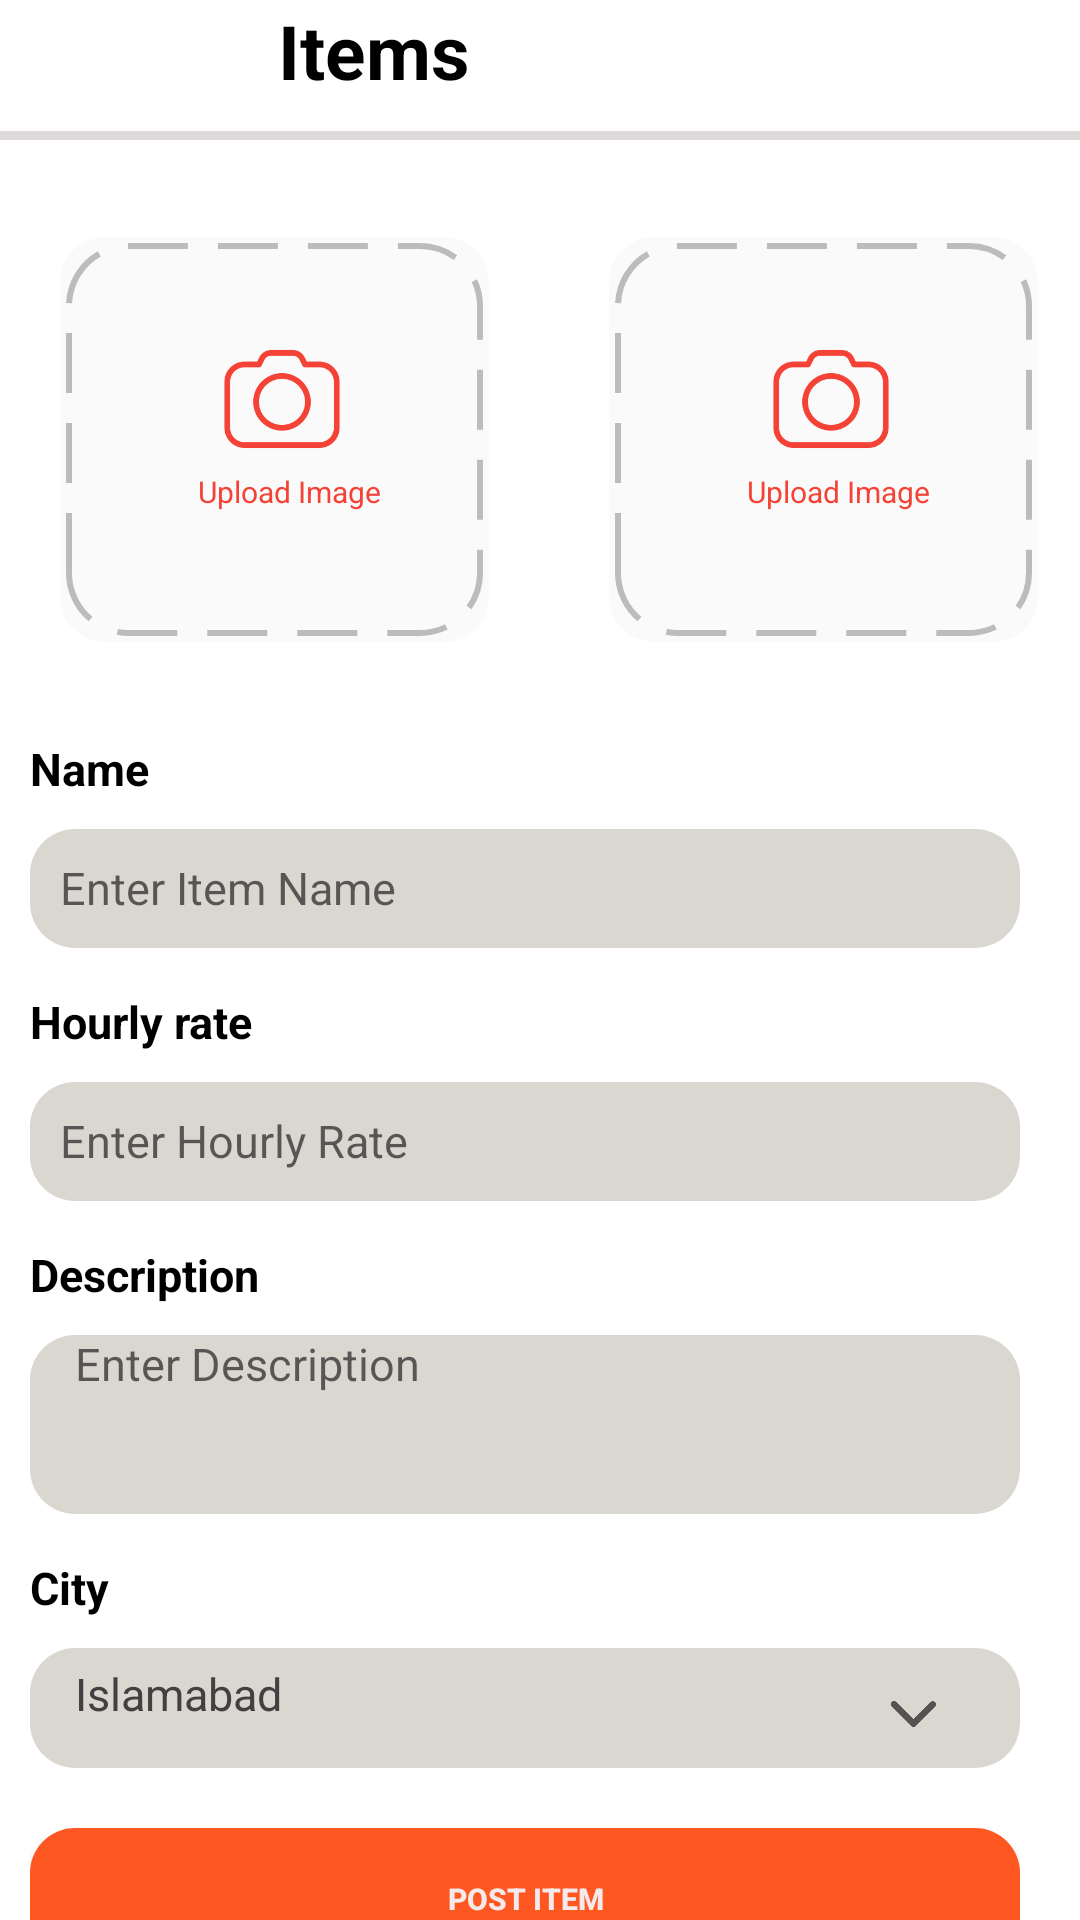

Icons on this 1080px×1920px Android screen, each with its box as (x1, y1, x2, y2):
camera: (224, 350, 340, 448), (773, 350, 889, 448)
